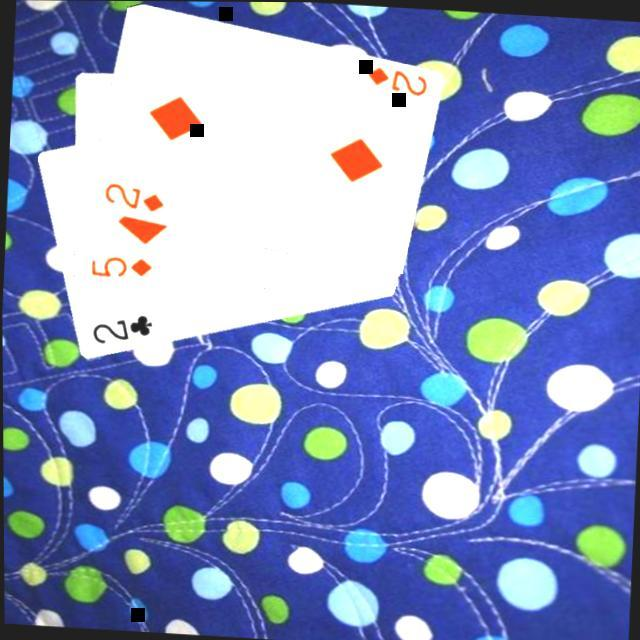2C: (86, 310, 154, 350)
2D: (362, 64, 430, 100), (98, 181, 166, 216)
5D: (86, 252, 152, 284)
